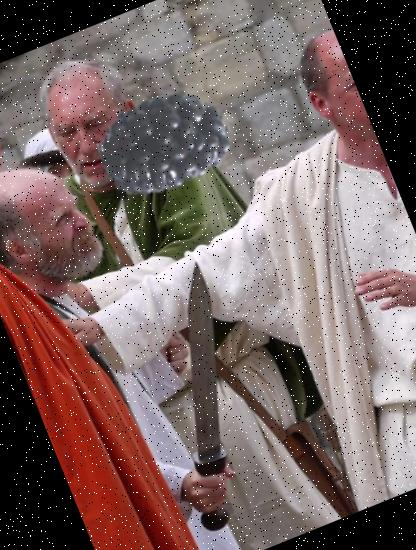Mulberry: (80, 58, 252, 230)
